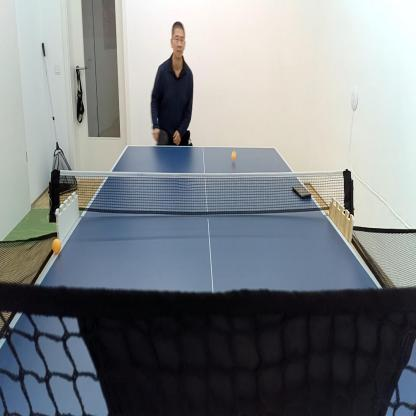Ball: (53, 238, 61, 254), (232, 151, 236, 161)
